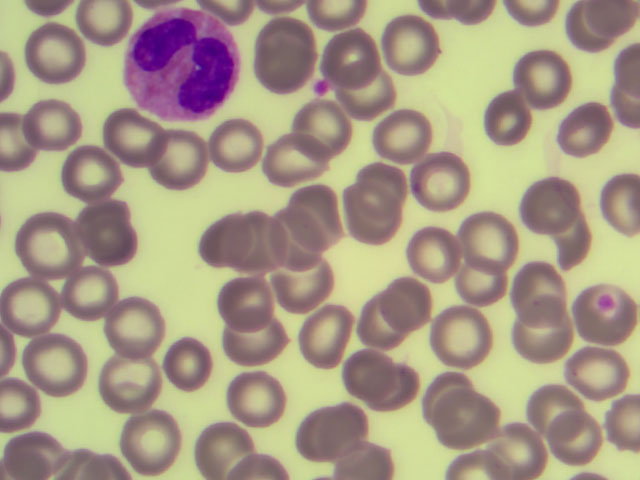Platelets: (310, 75, 330, 98)
RBC: (23, 19, 90, 86), (20, 84, 87, 151), (57, 133, 124, 200), (92, 105, 159, 172), (132, 125, 199, 192), (203, 113, 270, 180), (259, 127, 326, 194), (283, 103, 350, 170), (247, 19, 314, 86), (323, 17, 390, 84), (346, 65, 413, 132), (381, 12, 448, 79), (378, 106, 445, 173), (398, 130, 465, 197), (342, 141, 409, 208), (340, 183, 407, 250), (283, 178, 350, 245), (262, 214, 329, 281), (233, 207, 300, 274), (190, 207, 257, 274), (72, 191, 139, 258), (14, 211, 81, 278), (1, 279, 68, 346), (53, 253, 120, 320), (97, 291, 164, 358), (96, 340, 163, 407), (24, 328, 91, 395), (152, 329, 219, 396), (120, 406, 187, 473), (185, 407, 252, 474), (223, 364, 290, 431), (217, 322, 284, 389), (216, 266, 283, 333), (275, 247, 342, 314), (303, 308, 370, 375), (327, 335, 394, 402), (293, 399, 360, 466), (431, 388, 498, 455), (406, 348, 473, 415), (432, 306, 499, 373), (378, 267, 445, 334), (355, 291, 422, 358), (396, 229, 463, 296), (455, 202, 522, 269), (453, 248, 520, 315), (514, 250, 581, 317), (510, 299, 577, 366), (570, 343, 637, 410), (543, 410, 610, 477), (512, 368, 579, 435), (489, 407, 556, 474), (547, 215, 614, 282), (517, 171, 584, 238), (551, 97, 618, 164), (516, 50, 583, 117), (465, 85, 532, 152)
WBC: (120, 8, 240, 122)
